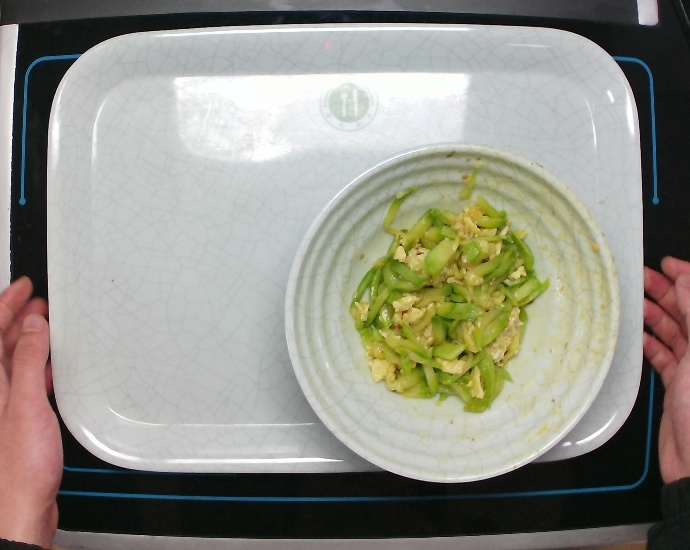JYsf-Da_Tang_Wan: (276, 139, 623, 487)
